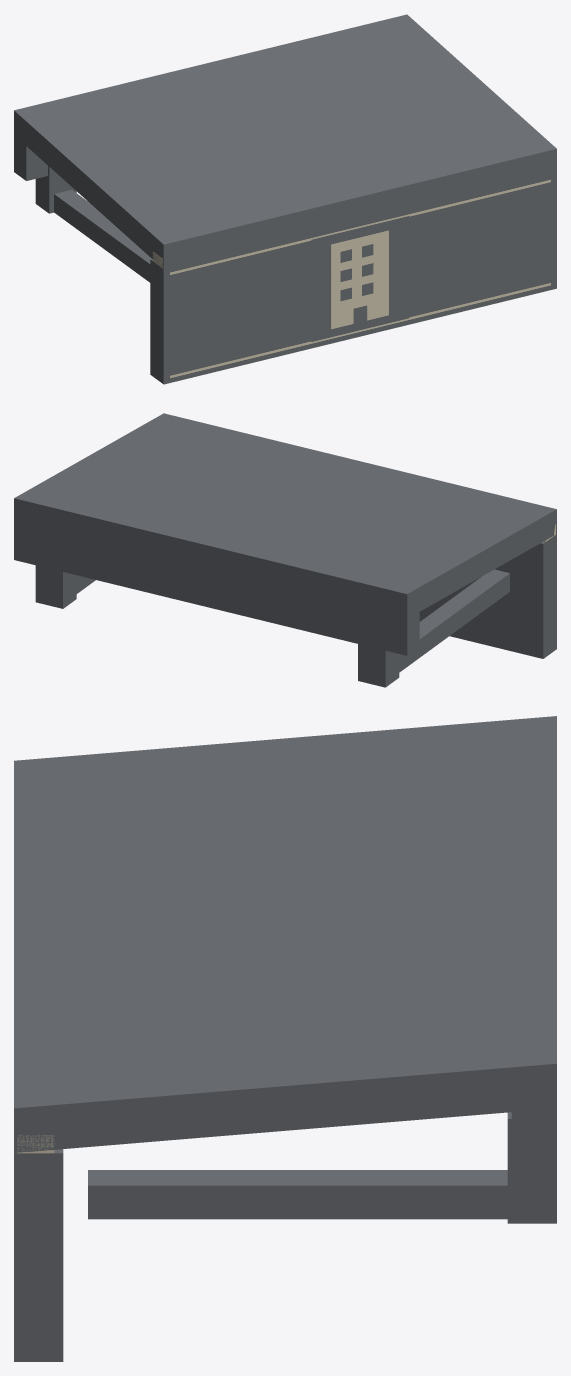
Rendered from building-business-offices-compact.glb.
The picture shows the model from 3 angles, top to bottom: view 1: azimuth 30°, elevation 25°; view 2: azimuth 150°, elevation 25°; view 3: azimuth 270°, elevation 25°; orthographic projection. The views are drawn at different scales.
Visible parts, largest first — view 1: business-offices-compact; view 2: business-offices-compact; view 3: business-offices-compact.
Part boxes in pixels (x1,y1,x2,y2): business-offices-compact: (14, 14, 556, 384); business-offices-compact: (14, 413, 556, 687); business-offices-compact: (14, 716, 556, 1361).
Bounding box in the file's own units: 1 × 0.4 × 0.66.
3 materials, 1 textured.
